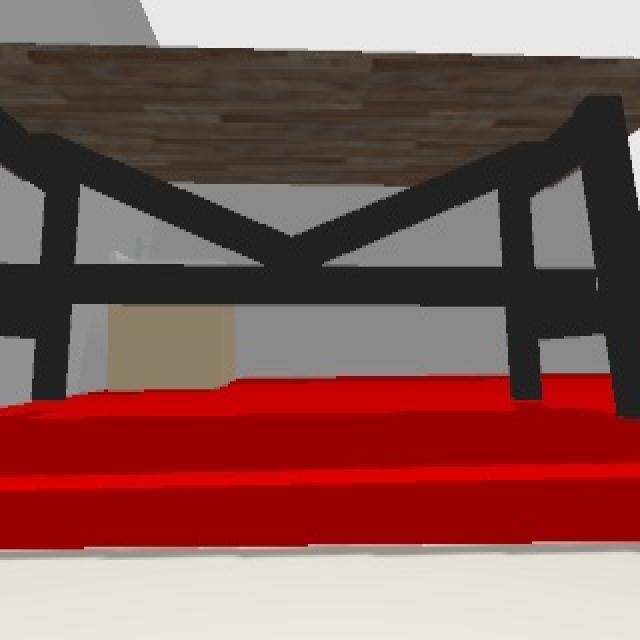dining: (4, 42, 640, 419)
